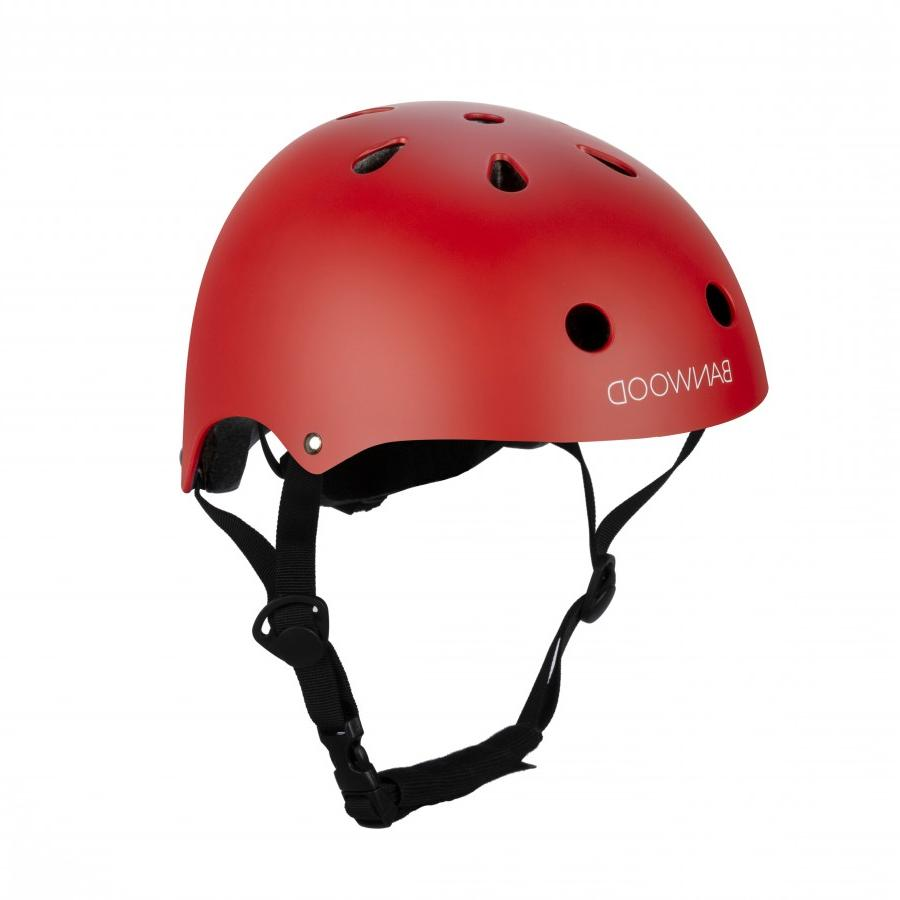Helmet: (177, 99, 770, 832)
